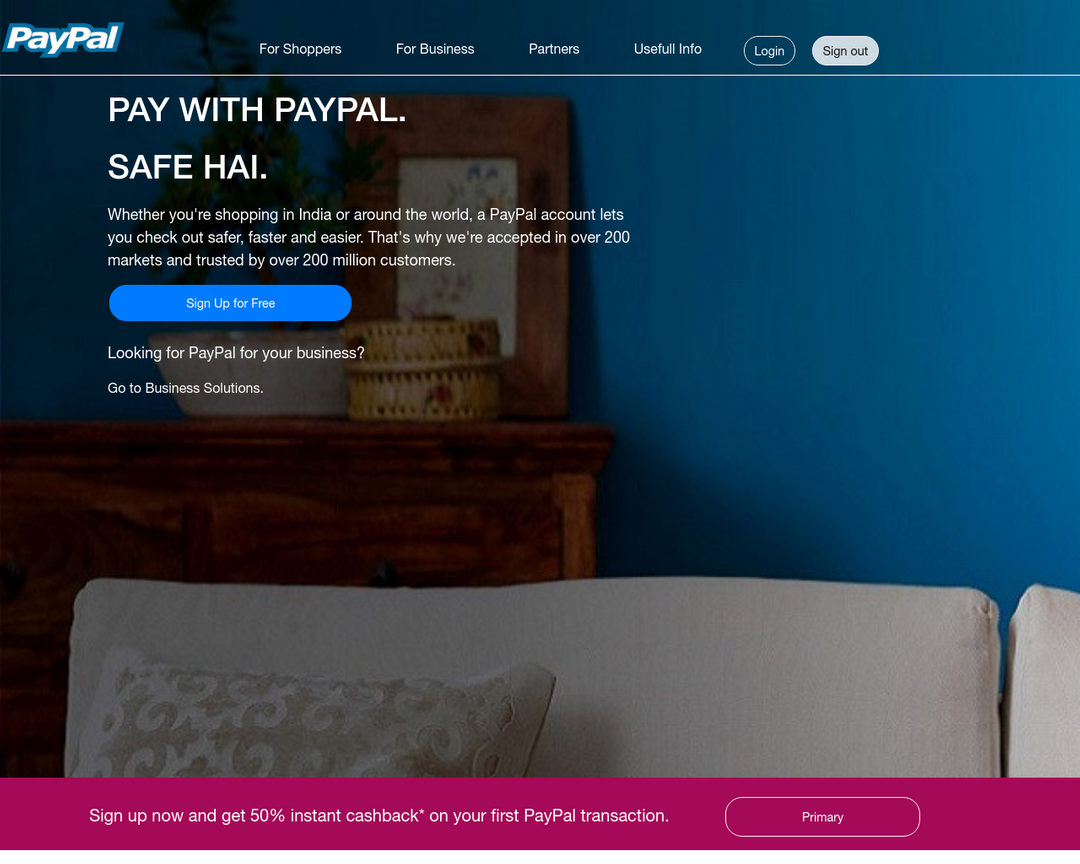Paypal: (4, 20, 122, 59)
